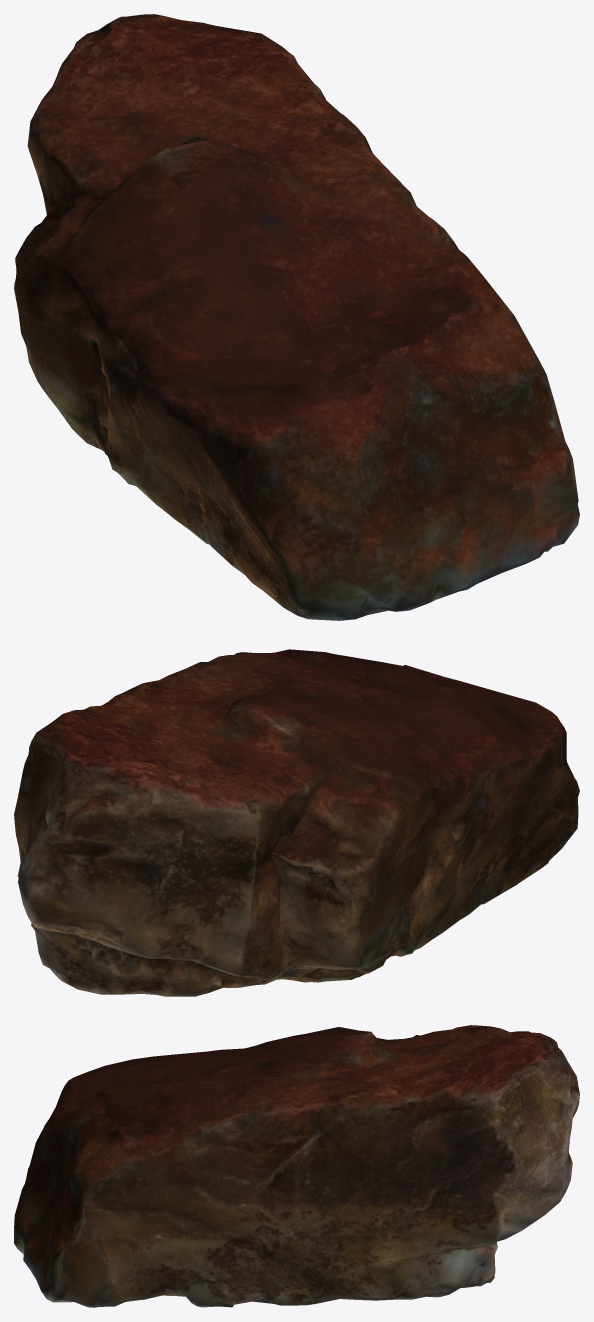
File: rock1.glb
The picture shows the model from 3 angles, top to bottom: view 1: azimuth 30°, elevation 25°; view 2: azimuth 150°, elevation 25°; view 3: azimuth 270°, elevation 25°; orthographic projection. The views are drawn at different scales.
Visible parts, largest first — view 1: rock_07; view 2: rock_07; view 3: rock_07.
Boxes of the visible parts, x1,y1,x2,y2 form: rock_07: (14,14,579,620); rock_07: (14,649,579,996); rock_07: (14,1025,579,1307).
Bounding box in the file's own units: 0.1686 × 0.1437 × 0.3199.
1 material, 1 textured.
